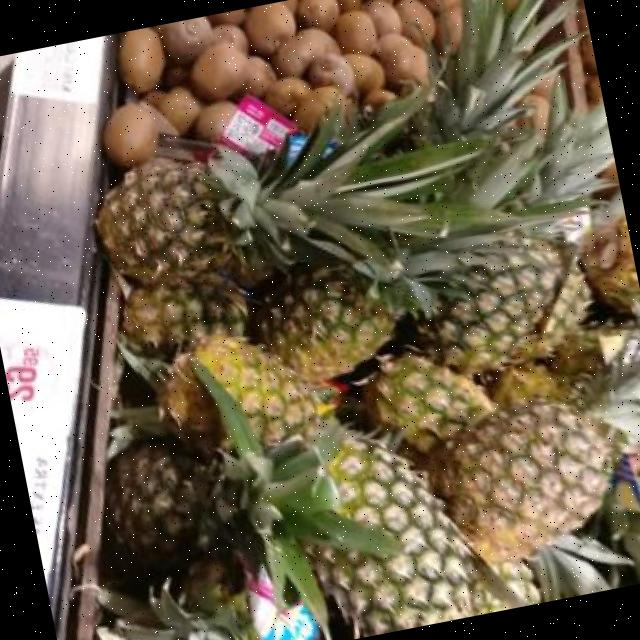pineapple: (106, 364, 397, 632), (95, 97, 510, 284), (422, 356, 640, 563), (313, 435, 507, 639), (402, 235, 589, 373), (252, 263, 404, 382), (194, 337, 332, 447), (362, 354, 496, 453), (121, 283, 248, 359), (429, 162, 509, 219)
